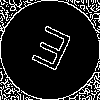E: (25, 25, 74, 80)
